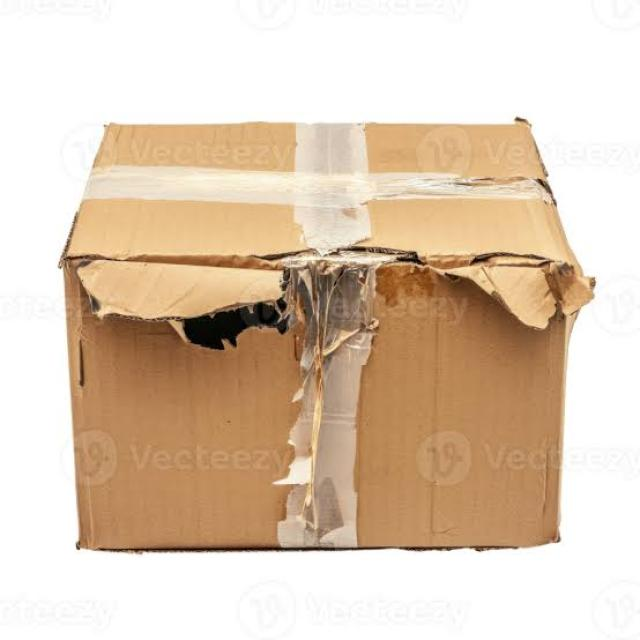carton_box: (36, 104, 608, 594)
package_damage: (45, 213, 607, 395), (460, 142, 583, 219)
